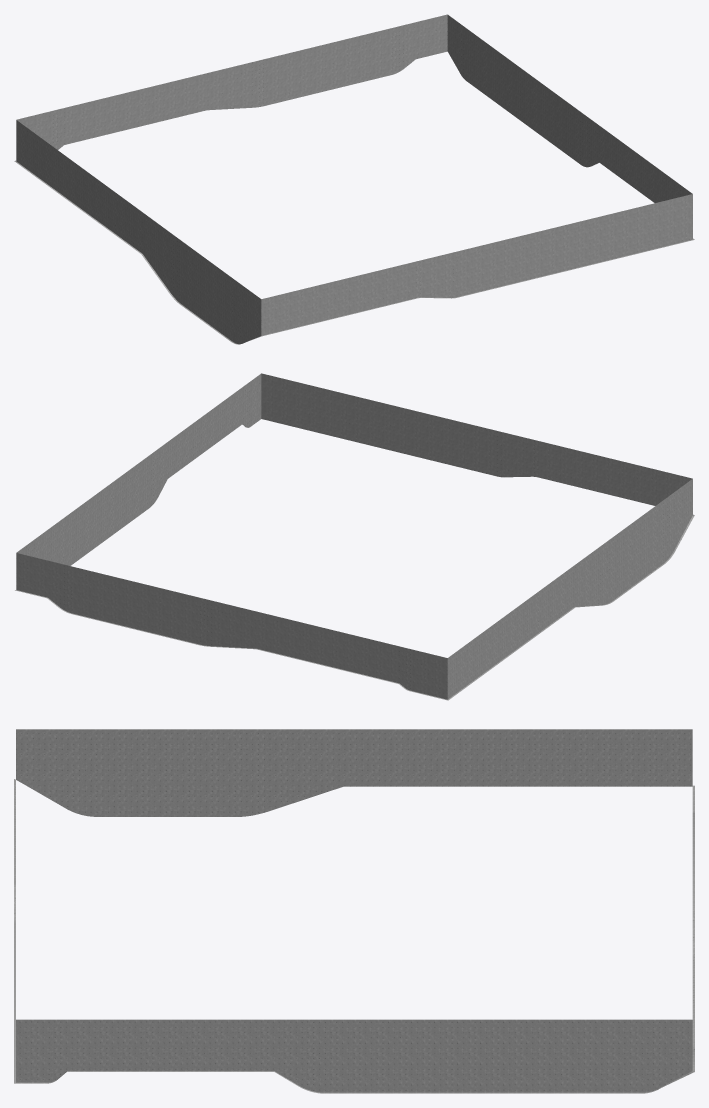
File: Stadium_Wall_Branding.FBX
3 renders of one model, top to bottom at view 1: azimuth 30°, elevation 25°; view 2: azimuth 150°, elevation 25°; view 3: azimuth 270°, elevation 25°, orthographic. The views are drawn at different scales.
Parts seen in each view (by area): view 1: Stadium_Wall_Branding; view 2: Stadium_Wall_Branding; view 3: Stadium_Wall_Branding.
Boxes of the visible parts, x1=… form: Stadium_Wall_Branding: x1=14, y1=14, x2=694, y2=344; Stadium_Wall_Branding: x1=15, y1=373, x2=694, y2=700; Stadium_Wall_Branding: x1=14, y1=729, x2=694, y2=1093.
Bounding box in the file's own units: 64783 × 9066 × 63760.
